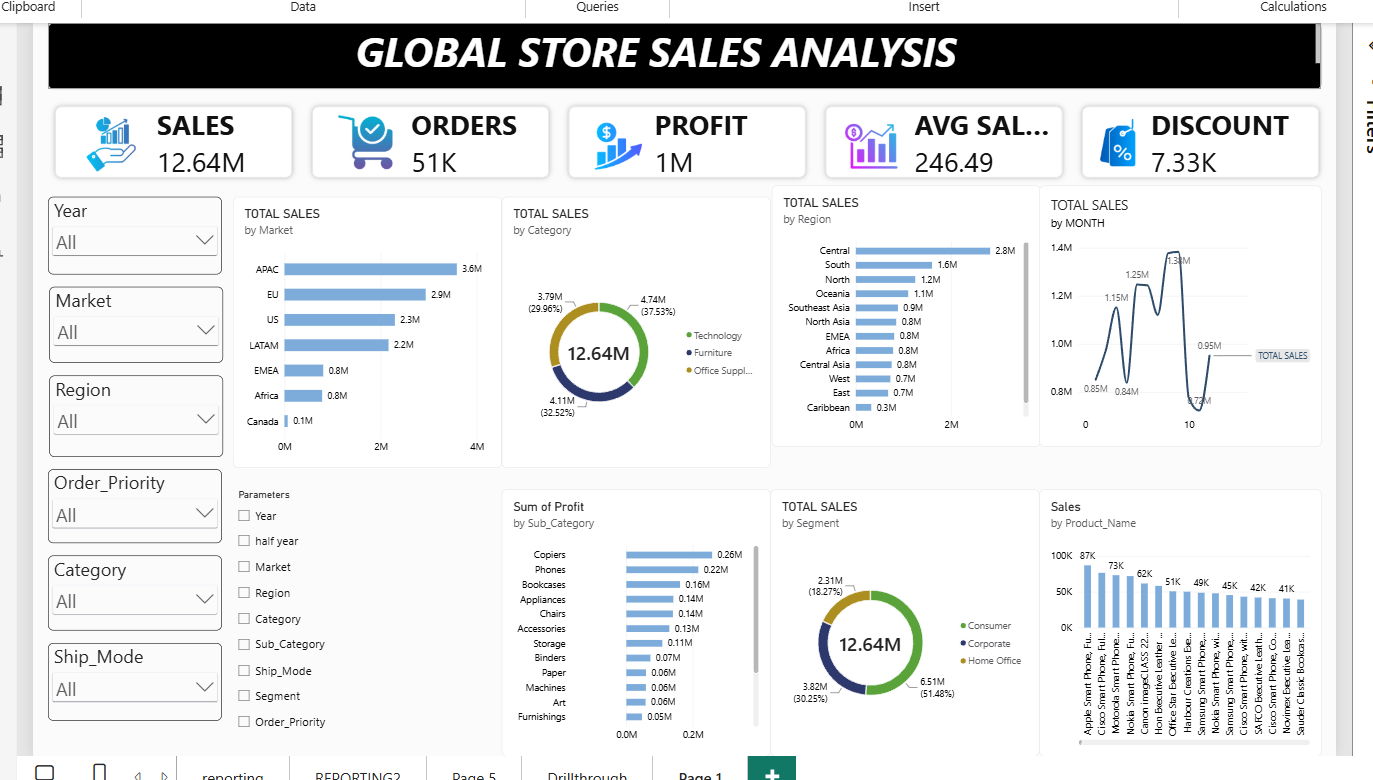

Layout of this report page (visuals, bound fields, positions):
{"tool":"powerbi","page":{"name":"Page 1","canvas":[1920,1080],"ordinal":4},"visuals":[{"type":"textbox","box":[22.1,0,1875.5,97.5],"z":0},{"type":"slicer","fields":{"Values":["calender.month end date.Variation.Date Hierarchy.Year"]},"box":[22.1,255.8,255.8,114.1],"z":5000},{"type":"slicer","fields":{"Values":["gss_cci.Market"]},"box":[23.9,388.3,255.8,112.3],"z":6000},{"type":"slicer","fields":{"Values":["Orders.Ship_Mode"]},"box":[29.4,901.8,255.8,114.1],"z":7000},{"type":"slicer","fields":{"Values":["gss_cci.Category"]},"box":[27.6,773,255.8,110.4],"z":8000},{"type":"slicer","fields":{"Values":["gss_cci.Order_Priority"]},"box":[25.8,646,255.8,108.6],"z":9000},{"type":"slicer","fields":{"Values":["gss_cci.Region"]},"box":[23.9,519,255.8,108.6],"z":10000},{"type":"cardVisual","fields":{"Data":["MEASURE#.TOTAL SALES","MEASURE#.TOTAL ORDERS","MEASURE#.TOTAL PROFIT","MEASURE#.AVERAGE SALES","MEASURE#.TOTAL DISCOUNT"]},"box":[22.1,112.3,1886.5,127],"z":11000},{"type":"clusteredBarChart","fields":{"Category":["gss_cci.Market"],"Y":["MEASURE#.TOTAL SALES"]},"box":[285.7,257.5,404.9,399.4],"z":21001},{"type":"donutChart","fields":{"Category":["gss_cci.Category"],"Y":["MEASURE#.TOTAL SALES"]},"box":[690.2,255.8,395.7,399.4],"z":21003},{"type":"clusteredBarChart","fields":{"Category":["gss_cci.Region"],"Y":["MEASURE#.TOTAL SALES"]},"box":[1085.9,255.8,395.7,401.2],"z":21006},{"type":"lineChart","fields":{"Category":["calender.FY MONTH"],"Y":["MEASURE#.TOTAL SALES"]},"box":[1476.1,255.8,421.5,401.2],"z":21007},{"type":"clusteredBarChart","fields":{"Category":["gss_cci.Sub_Category"],"Y":["Sum(gss_cci.Profit)"]},"box":[815.3,655.2,520.9,393.9],"z":21008},{"type":"donutChart","fields":{"Category":["gss_cci.Segment"],"Y":["MEASURE#.TOTAL SALES"]},"box":[294.3,657.9,520.9,393.9],"z":21009},{"type":"clusteredColumnChart","fields":{"Category":["gss_cci.Product_Name"],"Y":["Sum(gss_cci.Sales)"]},"box":[1336.2,657.1,561.4,393.9],"z":21010}]}

Visuals, with their boxes on the page's 1920x1080 design canvas (x1, y1, x2, y2). These are canvas units, not pixel positions in the 1373x780 screenshot, which may show the page scaled, cropped or inside an application window:
textbox: [x1=22, y1=0, x2=1898, y2=98]
slicer - calender.month end date.Variation.Date Hierarchy.Year: [x1=22, y1=256, x2=278, y2=370]
slicer - gss_cci.Market: [x1=24, y1=388, x2=280, y2=501]
slicer - Orders.Ship_Mode: [x1=29, y1=902, x2=285, y2=1016]
slicer - gss_cci.Category: [x1=28, y1=773, x2=283, y2=883]
slicer - gss_cci.Order_Priority: [x1=26, y1=646, x2=282, y2=755]
slicer - gss_cci.Region: [x1=24, y1=519, x2=280, y2=628]
cardVisual - MEASURE#.TOTAL SALES x MEASURE#.TOTAL ORDERS: [x1=22, y1=112, x2=1909, y2=239]
clusteredBarChart - gss_cci.Market x MEASURE#.TOTAL SALES: [x1=286, y1=258, x2=691, y2=657]
donutChart - gss_cci.Category x MEASURE#.TOTAL SALES: [x1=690, y1=256, x2=1086, y2=655]
clusteredBarChart - gss_cci.Region x MEASURE#.TOTAL SALES: [x1=1086, y1=256, x2=1482, y2=657]
lineChart - calender.FY MONTH x MEASURE#.TOTAL SALES: [x1=1476, y1=256, x2=1898, y2=657]
clusteredBarChart - gss_cci.Sub_Category x Sum(gss_cci.Profit): [x1=815, y1=655, x2=1336, y2=1049]
donutChart - gss_cci.Segment x MEASURE#.TOTAL SALES: [x1=294, y1=658, x2=815, y2=1052]
clusteredColumnChart - gss_cci.Product_Name x Sum(gss_cci.Sales): [x1=1336, y1=657, x2=1898, y2=1051]
